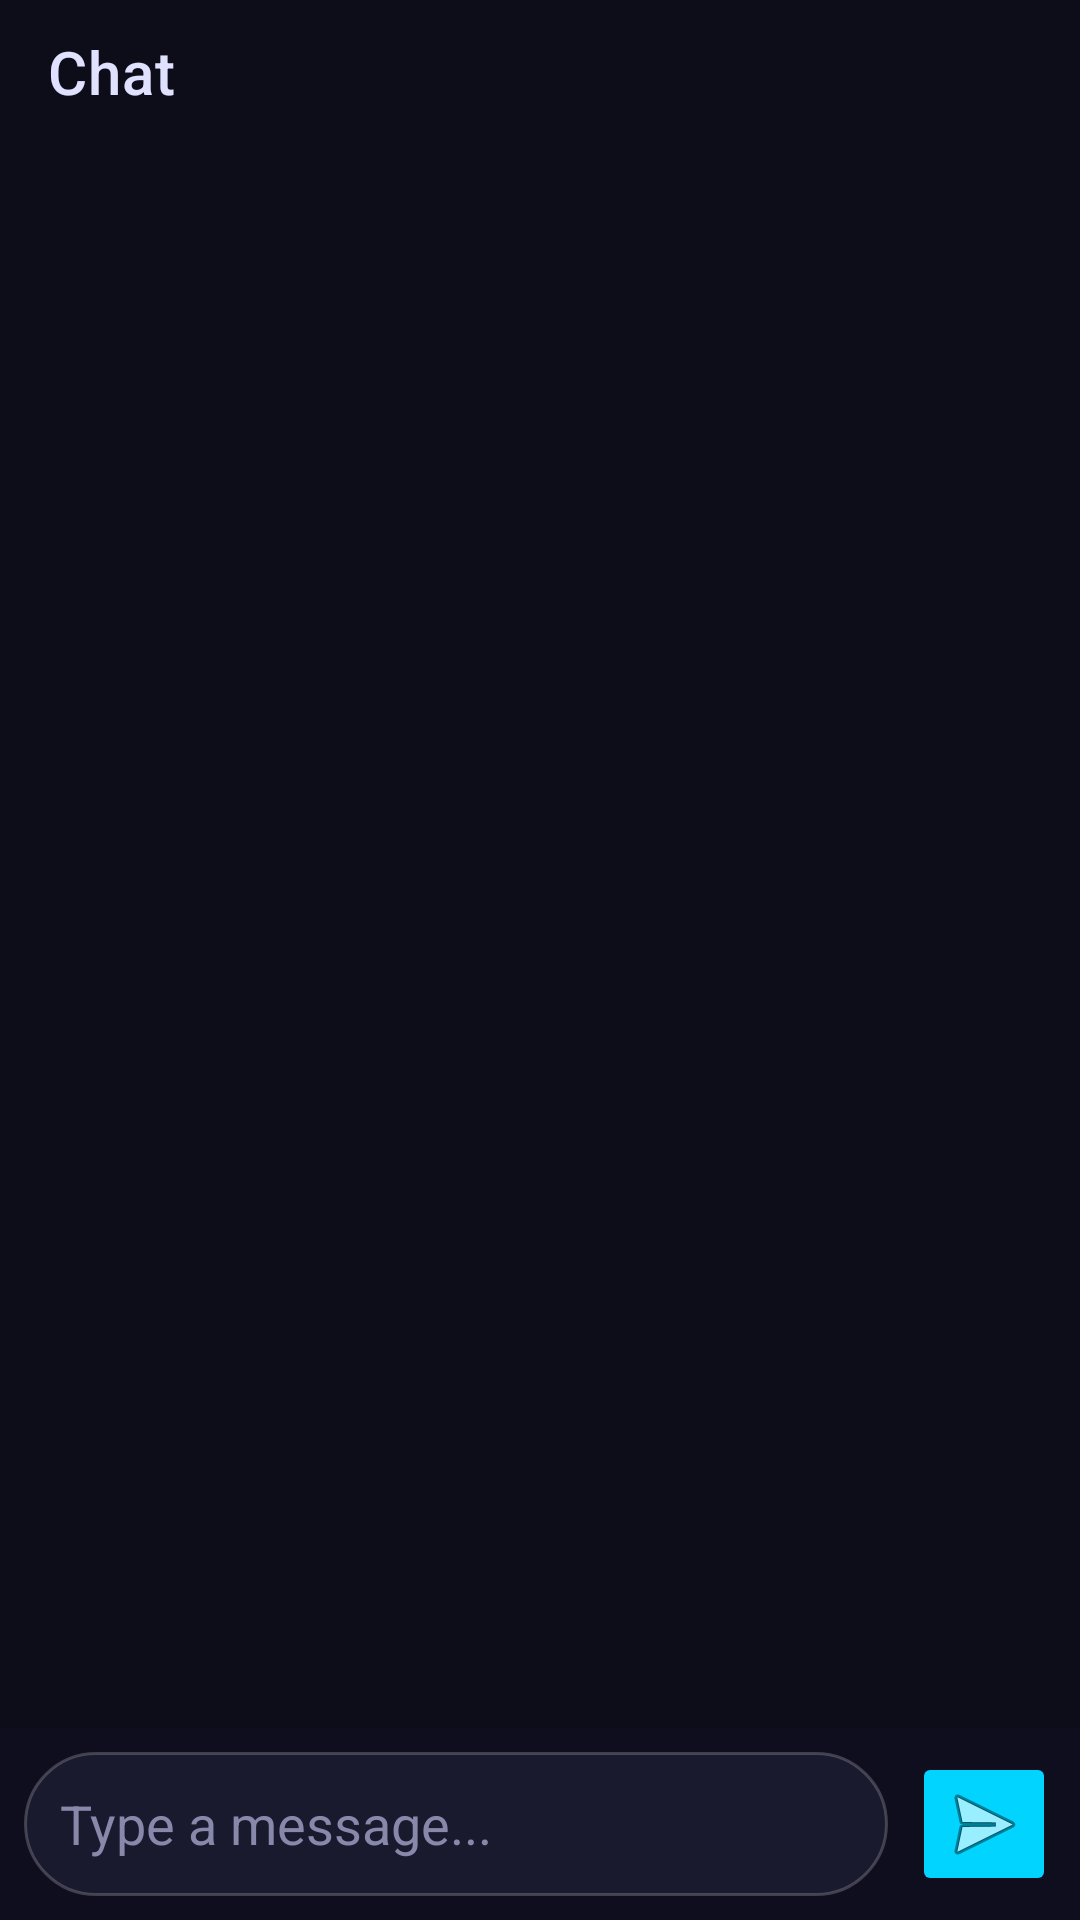

Icons on this 1080*1920 Android screen, each with its box as [x1=x1, y1=y1, x2=x2, y2=y2]:
send: [x1=924, y1=1770, x2=1044, y2=1878]
